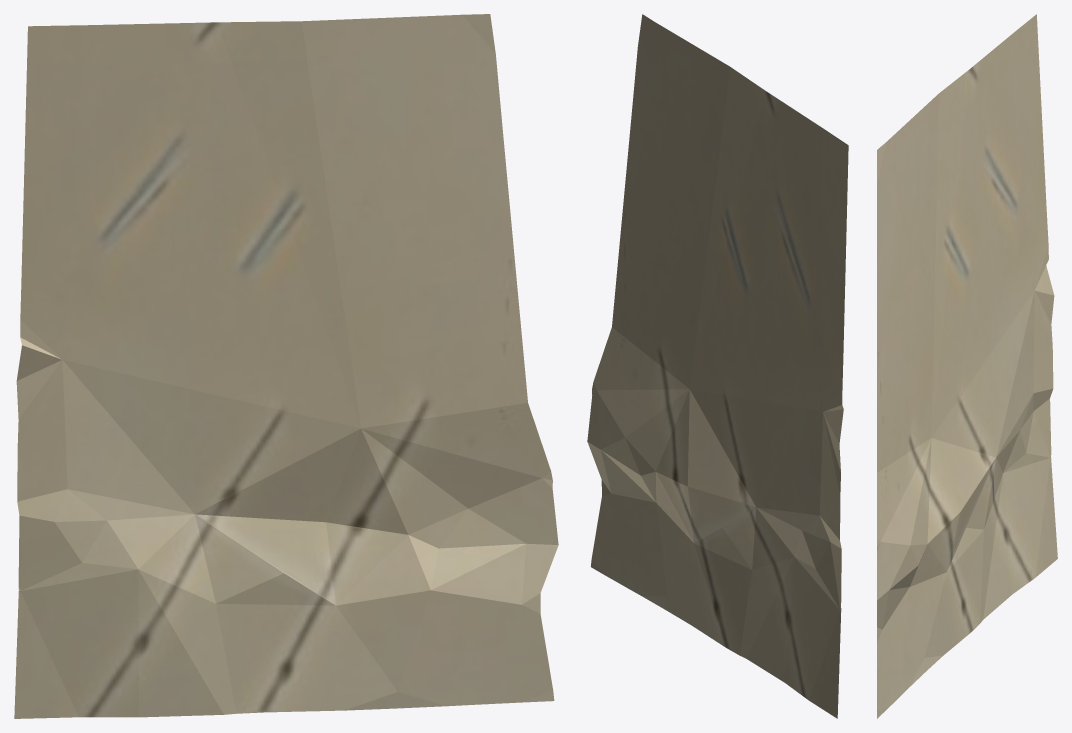
The picture shows the model from 3 angles, left to right: view 1: azimuth 30°, elevation 25°; view 2: azimuth 150°, elevation 25°; view 3: azimuth 270°, elevation 25°; orthographic projection. The views are drawn at different scales.
Bounding box in the file's own units: 1.07 × 1.67 × 0.5039.
2 materials, 2 textured.
